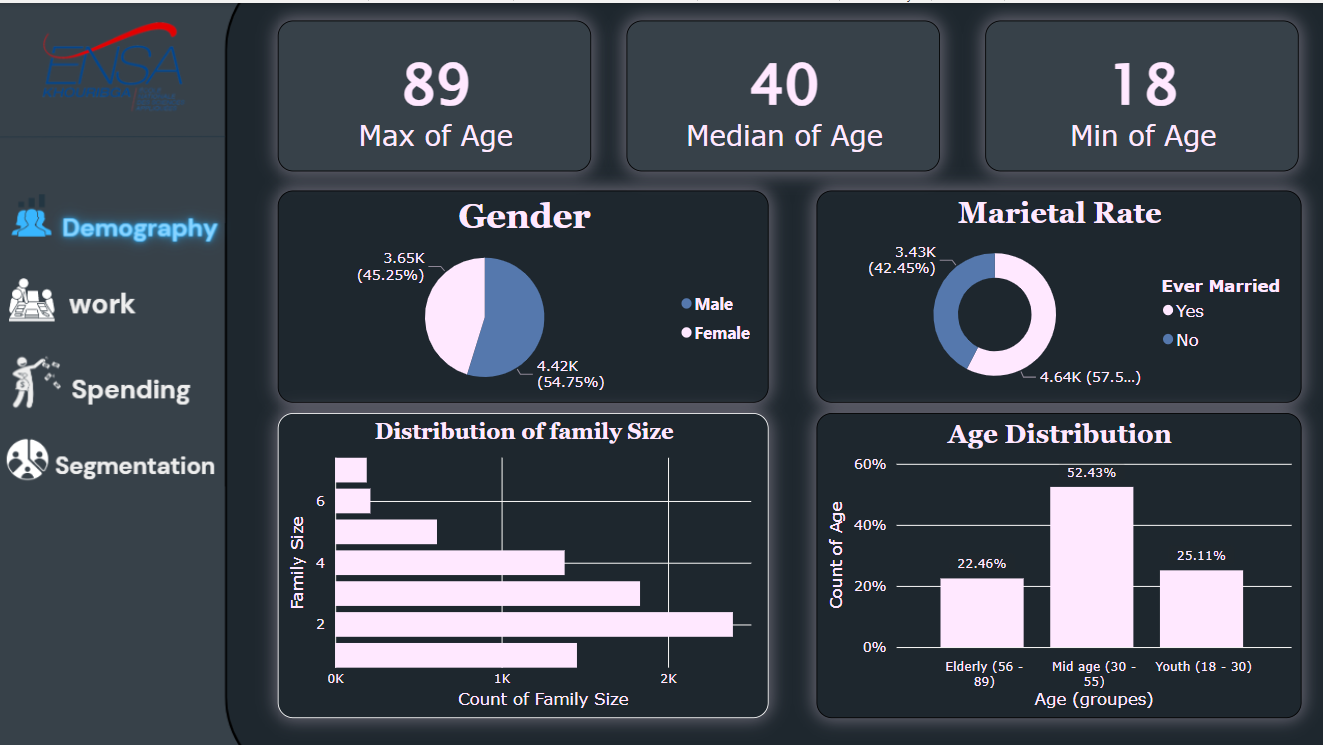

This screenshot's page, from the dashboard's own definition file:
{"tool":"powerbi","page":{"name":"demography","canvas":[1280,720],"ordinal":0},"visuals":[{"type":"pieChart","title":"Gender","fields":{"Category":["Customer data cleaned.Gender"],"Y":["CountNonNull(Customer data cleaned.Gender)"]},"box":[268.9,180.9,474,205],"z":0},{"type":"donutChart","title":"Marietal Rate","fields":{"Category":["Customer data cleaned.Ever_Married"],"Y":["CountNonNull(Customer data cleaned.Ever_Married)"]},"box":[788.7,180.9,467.9,205],"z":1000},{"type":"clusteredColumnChart","title":"Age Distribution","fields":{"Category":["Customer data cleaned.Age (groupes)","Customer data cleaned.Age (compartiments)"],"Y":["Sum(Customer data cleaned.Age)"]},"box":[788.7,395.6,467.9,294.3],"z":2000},{"type":"clusteredBarChart","title":"Distribution of family Size","fields":{"Category":["Customer data cleaned.Family_Size"],"Y":["CountNonNull(Customer data cleaned.Family_Size)"]},"box":[268.9,395.6,474,294.3],"z":3000},{"type":"card","fields":{"Values":["Min(Customer data cleaned.Age)"]},"box":[951.6,16.9,302.7,145.9],"z":4000},{"type":"card","fields":{"Values":["Median(Customer data cleaned.Age)"]},"box":[605.4,16.9,302.7,145.9],"z":5000},{"type":"card","fields":{"Values":["Max(Customer data cleaned.Age)"]},"box":[268.9,16.9,302.7,145.9],"z":6000}]}

Visuals, with their boxes on the page's 1280x720 design canvas (x1, y1, x2, y2). These are canvas units, not pixel positions in the 1323x745 screenshot, which may show the page scaled, cropped or inside an application window:
"Gender" pieChart: 269/181/743/386
"Marietal Rate" donutChart: 789/181/1257/386
"Age Distribution" clusteredColumnChart: 789/396/1257/690
"Distribution of family Size" clusteredBarChart: 269/396/743/690
card - Min(Customer data cleaned.Age): 952/17/1254/163
card - Median(Customer data cleaned.Age): 605/17/908/163
card - Max(Customer data cleaned.Age): 269/17/572/163
